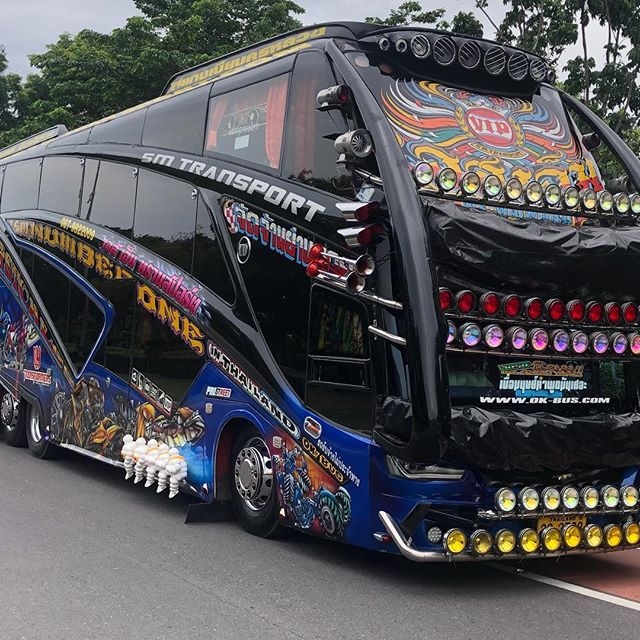bus: (2, 22, 638, 566)
